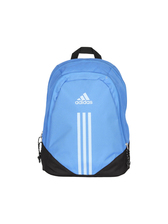bag: (30, 44, 144, 182)
